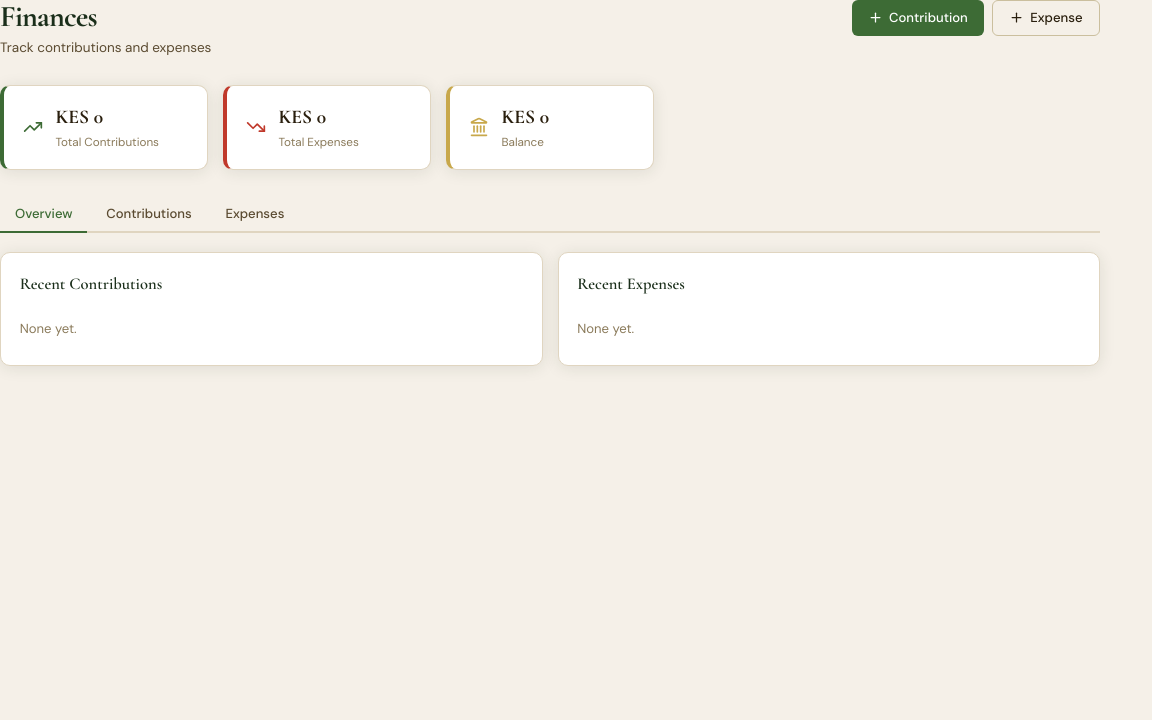
Test: FinancesPage — admin view › opens expense modal
What coordinates should you click on to do the following:
click the button with test id "add-expense-btn"
I would click on:
 (1046, 18)
Its box is [992,0,1100,36].
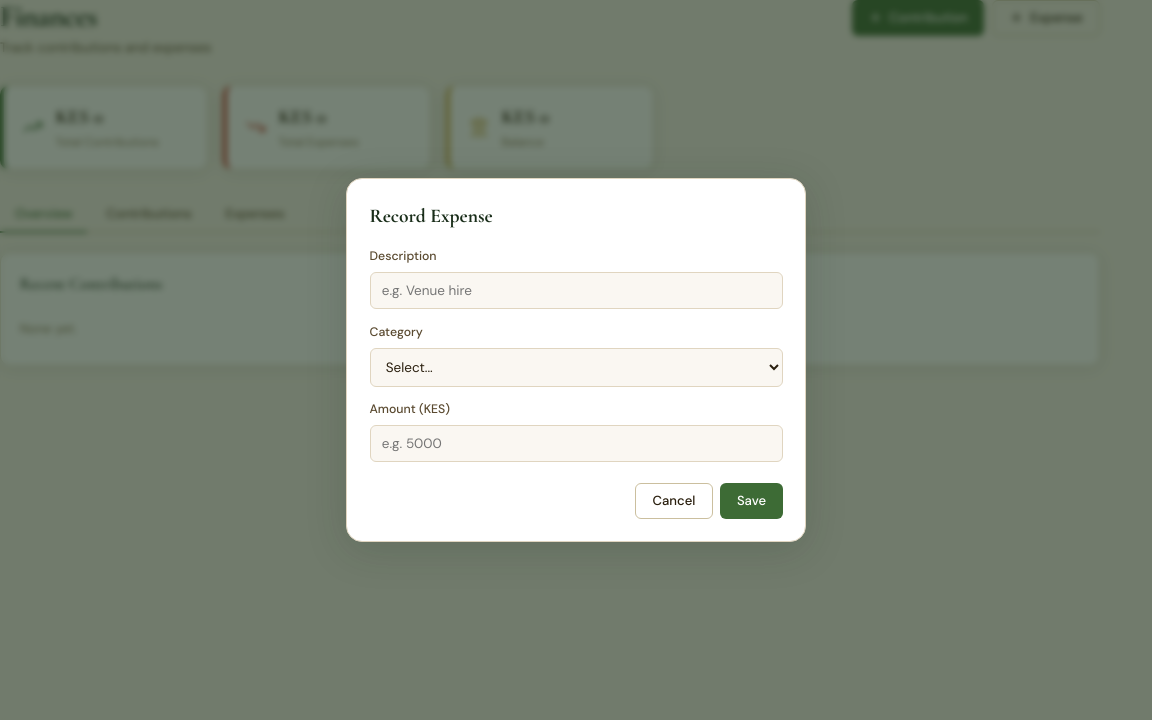
Result: the number field with test id "expense-amount" is shown at [370,425,782,462]
